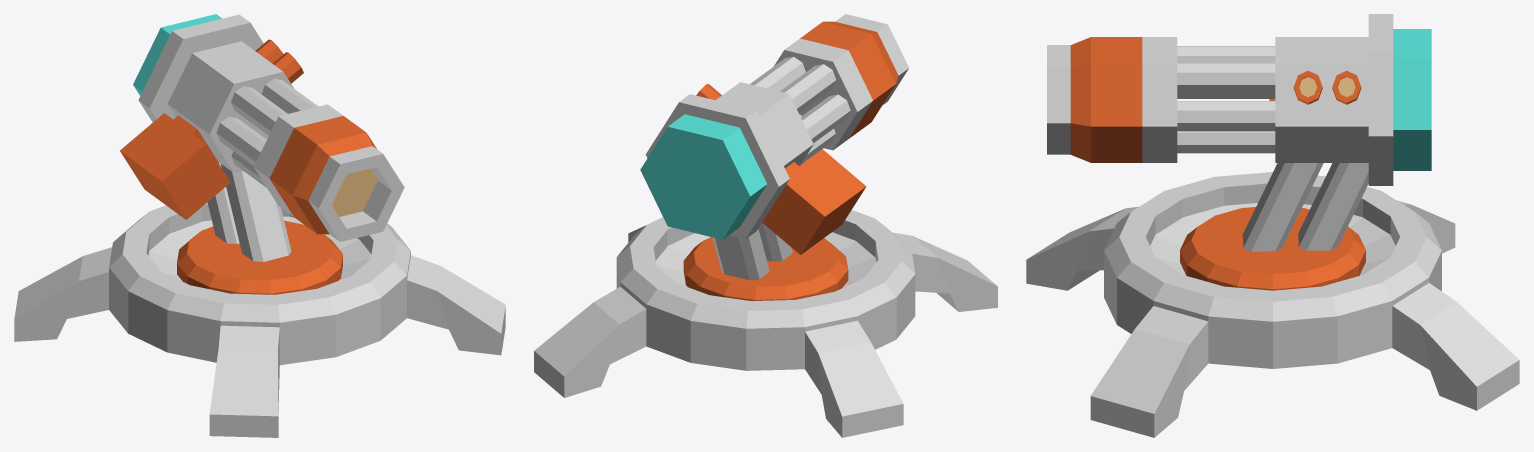
The model's file is turret2.glb.
3 views of the same model, side by side, from view 1: azimuth 30°, elevation 25°; view 2: azimuth 150°, elevation 25°; view 3: azimuth 270°, elevation 25° (orthographic). The views are drawn at different scales.
Parts seen in each view (by area): view 1: Cylinder; view 2: Cylinder; view 3: Cylinder.
Boxes of the visible parts, x1,y1,x2,y2 form: Cylinder: (14, 14, 505, 437); Cylinder: (534, 14, 997, 437); Cylinder: (1026, 14, 1519, 437).
Bounding box in the file's own units: 2.92 × 1.97 × 2.92.
